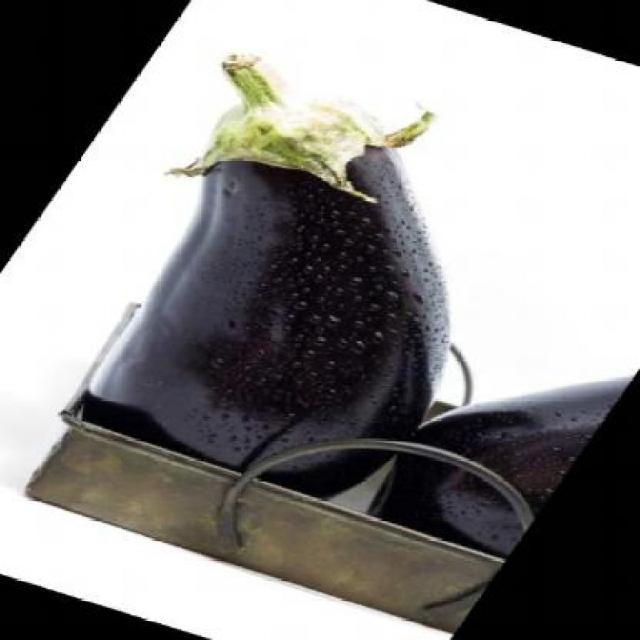eggplant: (82, 51, 454, 502), (373, 378, 634, 560)
